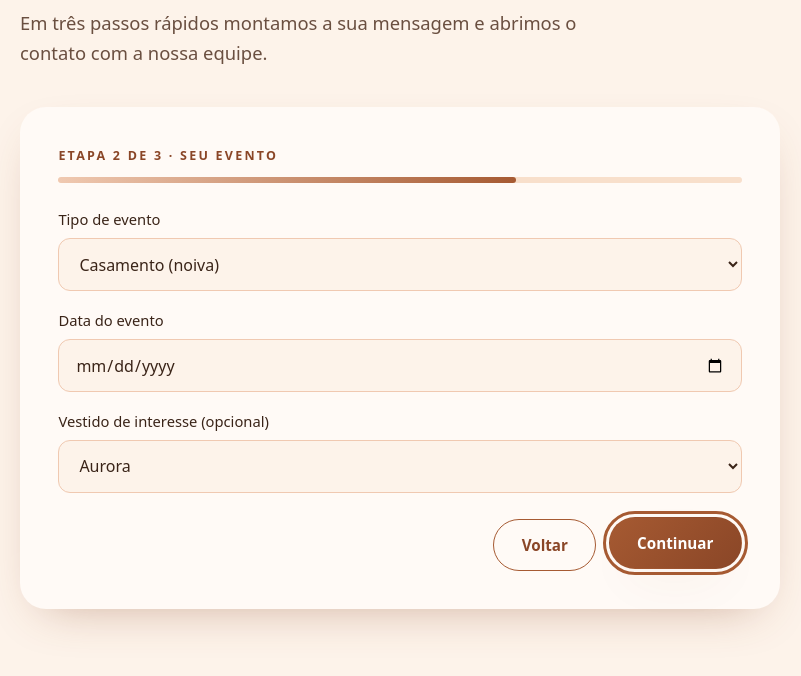
Test case: BookingPage (fluxo completo) › valida, avança etapas, mostra revisão e abre o contato
The image size is (801, 676).
Earlier steps of the test are not shown.
Later steps or results of the test are not shown.
(page scrolled)
Expected: the date field labelled "Data do evento" is shown, x1=58 y1=339 x2=742 y2=392
Expected: the progress indicator named "Progresso do agendamento" has attribute aria-valuenow="67", x1=58 y1=177 x2=742 y2=183
Click the button "Continuar": x=675, y=543 x1=609 y1=516 x2=742 y2=569
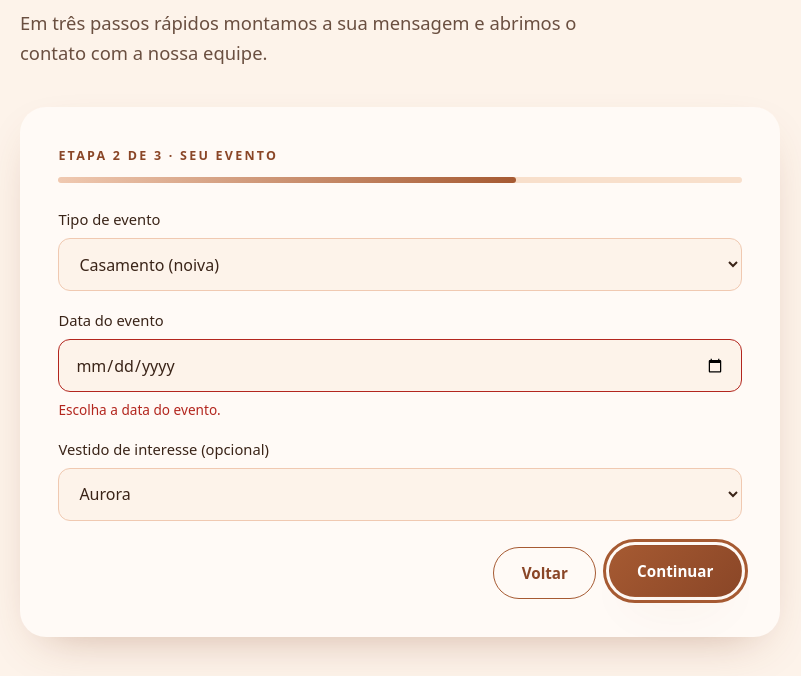
Expected: the text "Escolha a data do evento." is shown, x1=58 y1=400 x2=221 y2=419
In the date field labelled "Data do evento": x=400, y=366 x1=58 y1=339 x2=742 y2=392, type "2099-01-10"
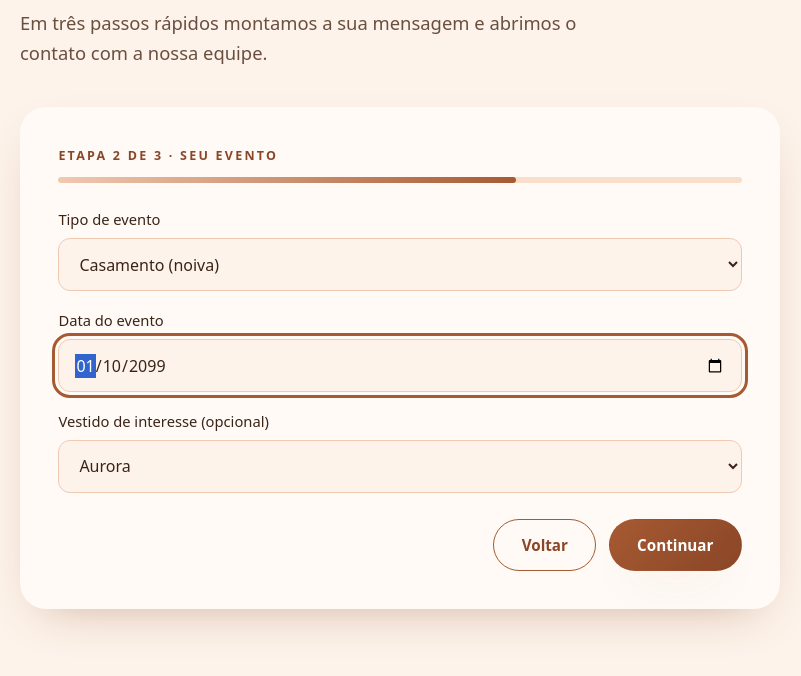
Click the button "Continuar": x=675, y=545 x1=609 y1=518 x2=742 y2=571
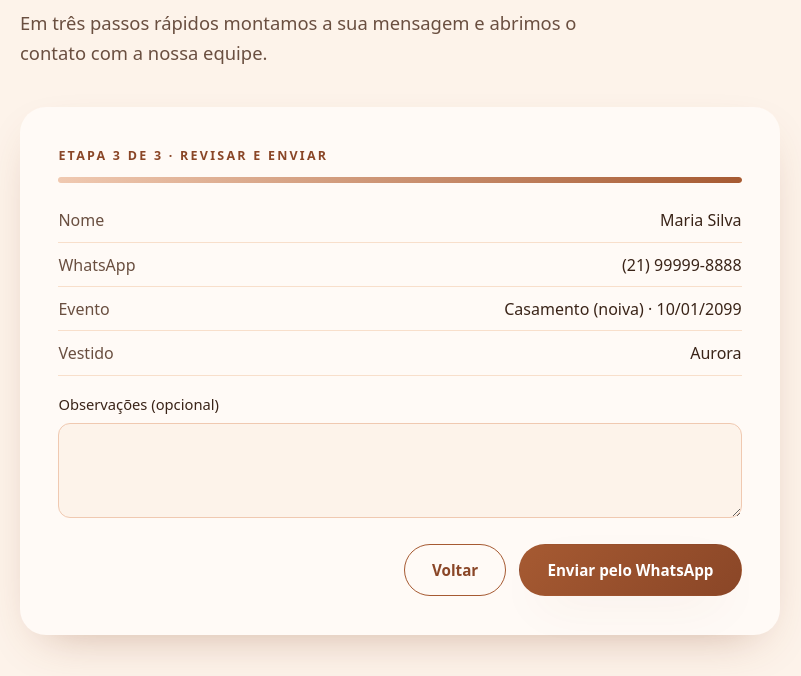
Expected: the text "Maria Silva" is shown, x1=660 y1=208 x2=742 y2=234
Expected: the text "Casamento (noiva) · 10/01/2099" is shown, x1=504 y1=297 x2=742 y2=322
Note: voltar mantém dados
Click the button "Voltar": x=455, y=570 x1=404 y1=544 x2=506 y2=596
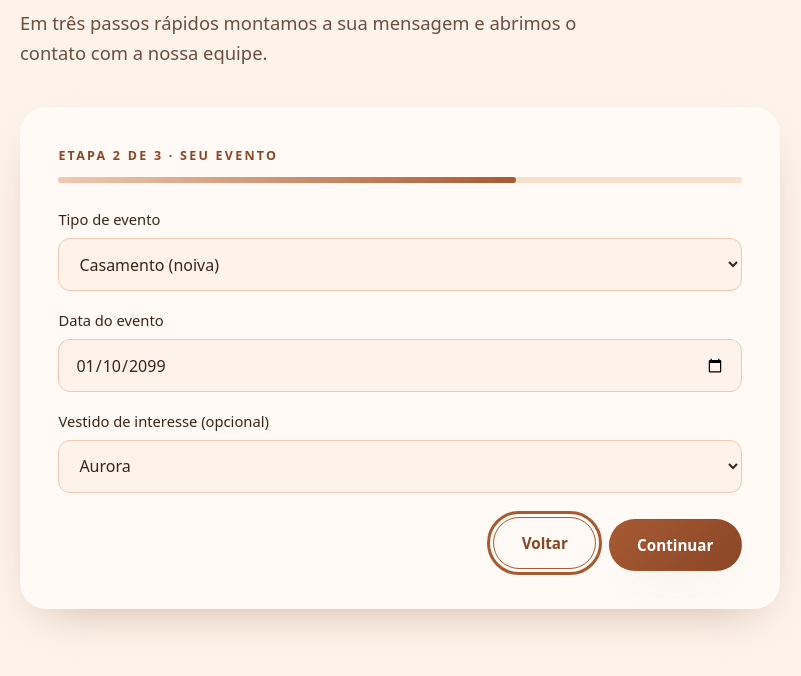
Expected: the date field labelled "Data do evento" holds "2099-01-10", x1=58 y1=339 x2=742 y2=392
Click the button "Continuar": x=675, y=545 x1=609 y1=518 x2=742 y2=571
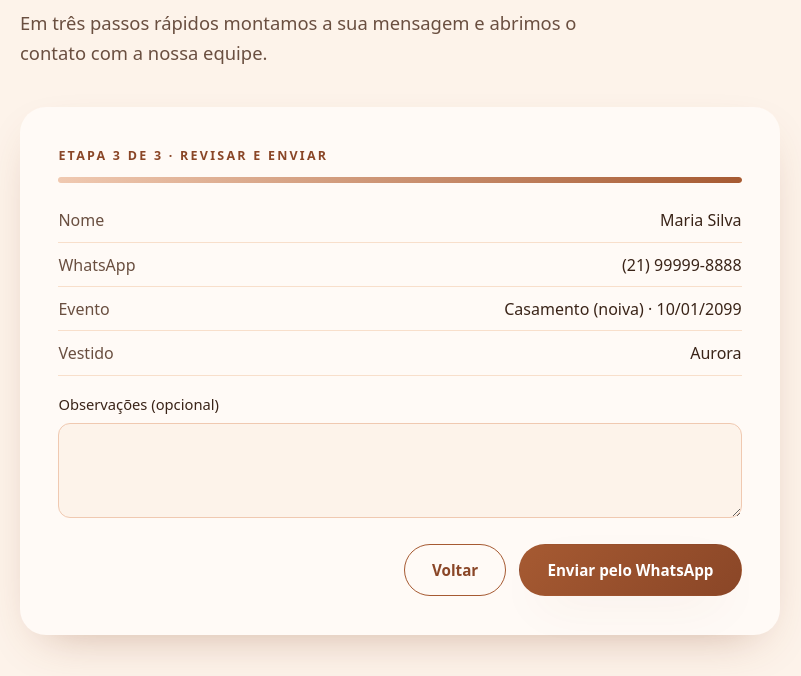
Click the button "Enviar pelo WhatsApp": x=630, y=570 x1=519 y1=544 x2=742 y2=596
(page scrolled)
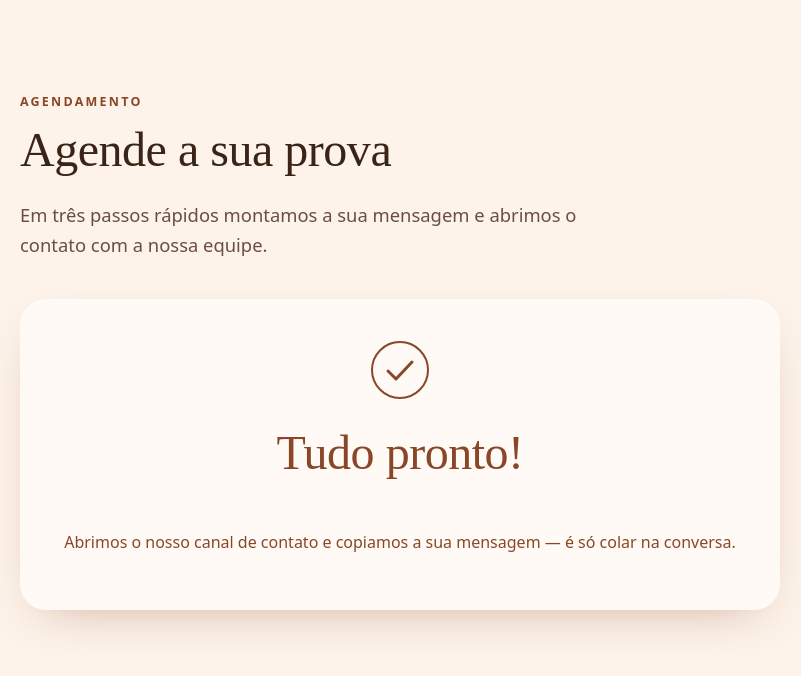
Expected: the heading "Tudo pronto!" is shown, x1=276 y1=427 x2=524 y2=480
